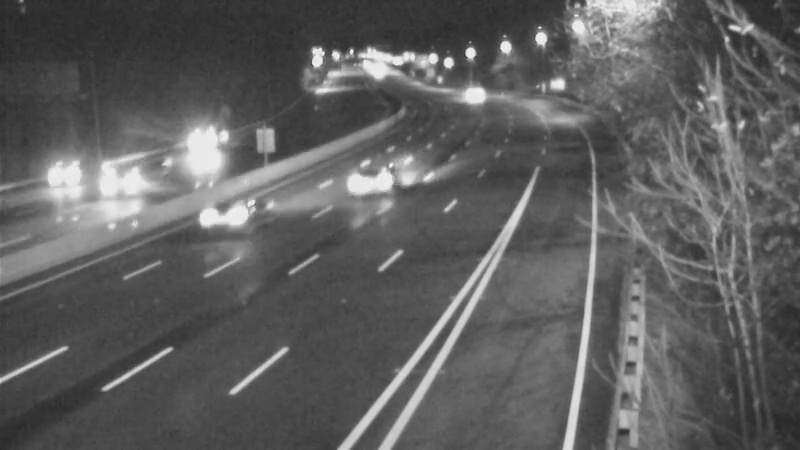vehicle: (335, 145, 415, 225), (186, 172, 266, 252), (24, 137, 104, 217), (79, 142, 159, 222), (444, 70, 494, 120), (174, 119, 224, 169)
